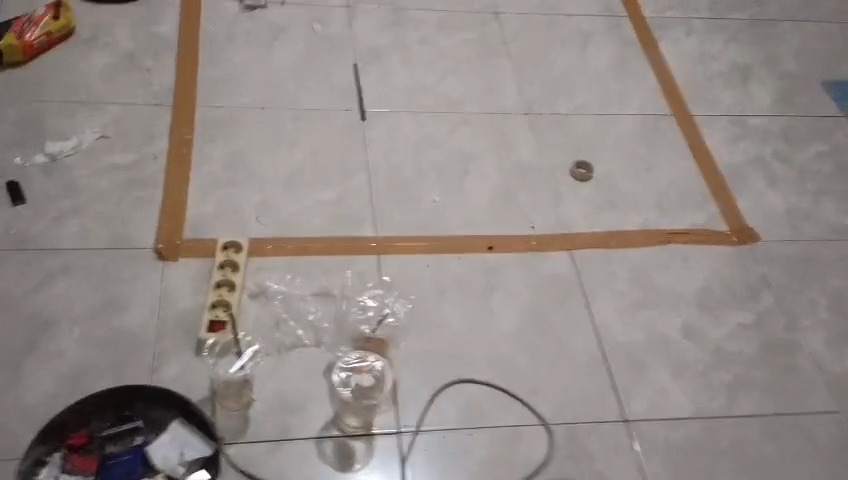floor marking: (248, 0, 760, 257), (153, 0, 216, 261)
